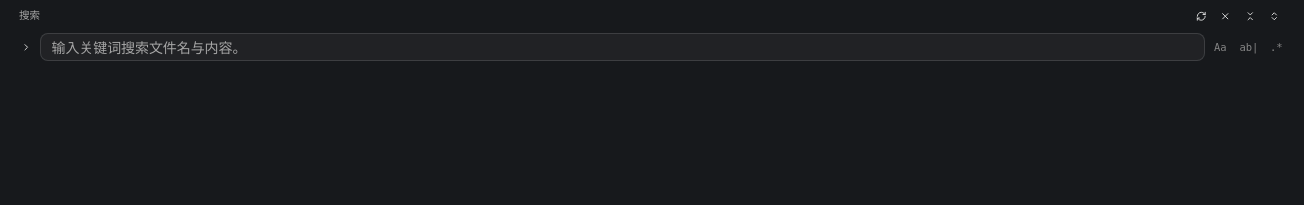
Test case: name vs path-only hits › labels directory-only matches 路径匹配, real name matches 文件名匹配
The width and height of the screenshot is (1304, 205).
Type "foo" into the field labelled "搜索".
click(622, 47); type("foo")  # box [40, 33, 1204, 61]
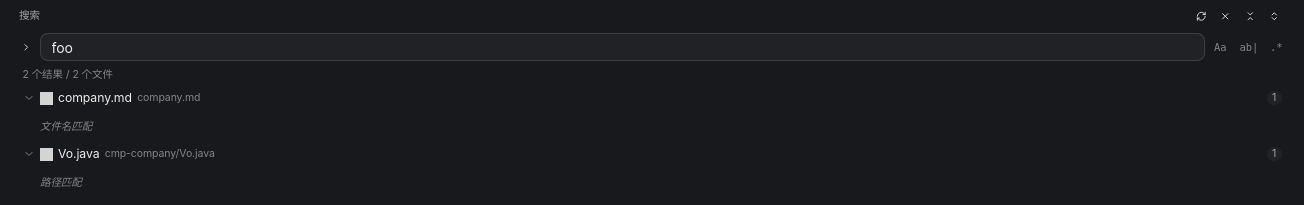
Check: the text "文件名匹配" is shown once, box [40, 120, 92, 133]
Check: the text "路径匹配" is shown once, box [40, 176, 82, 189]
